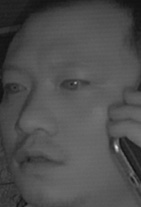eye: (58, 73, 91, 95), (3, 78, 30, 97)
mouth: (12, 140, 65, 177)
